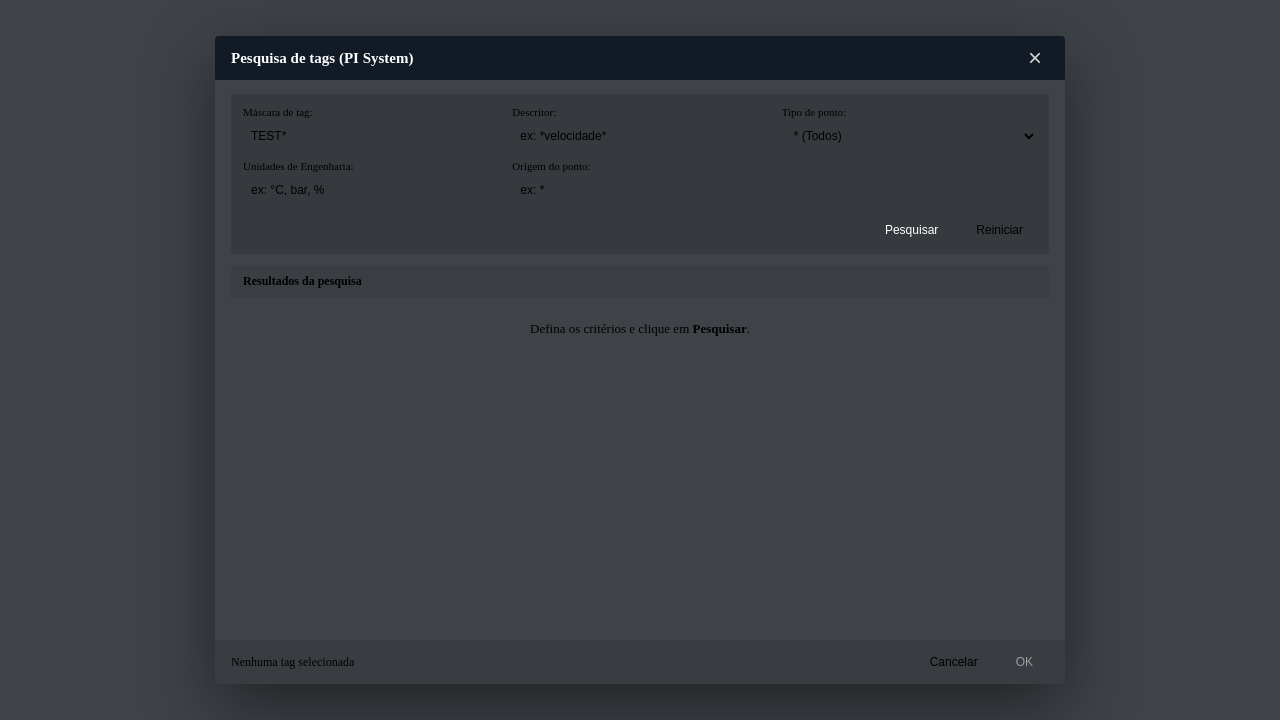
PiPointSearchDialog › permite reiniciar filtros
In the field with test id "dialog-descriptor": (640, 136) [512,122,768,150], type "Motor"
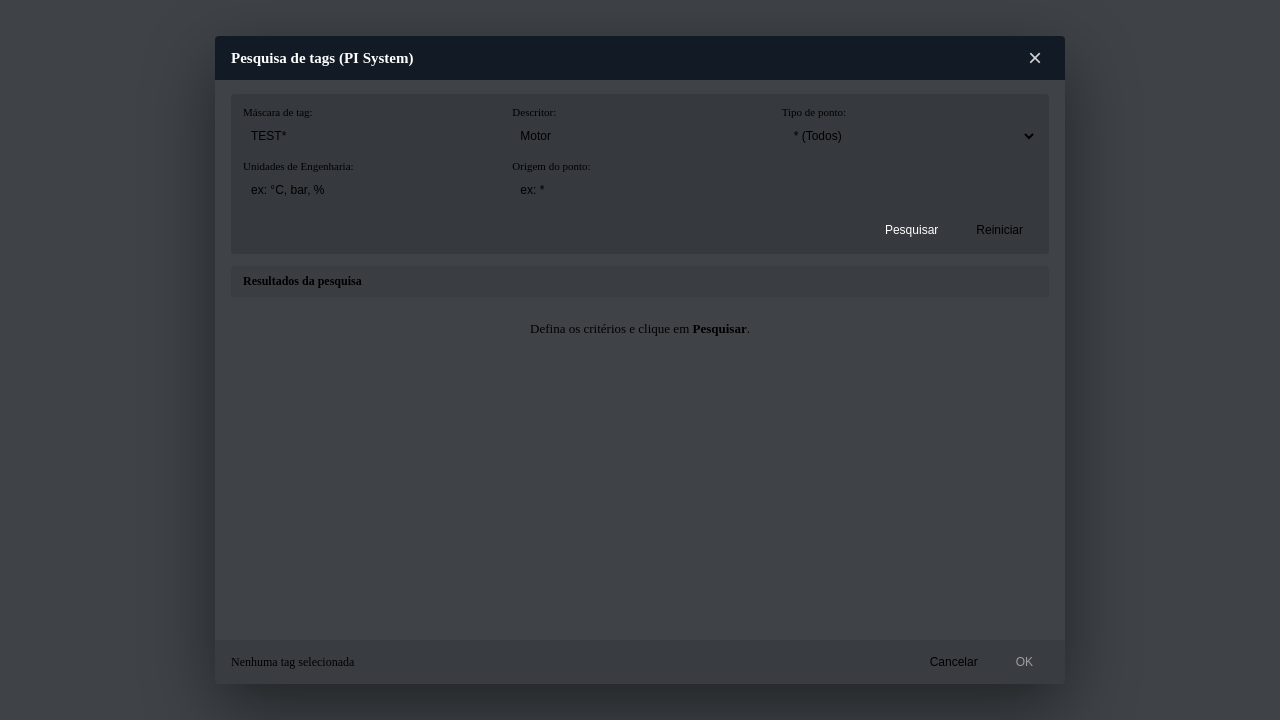
Click the button with test id "dialog-search-reset": (1000, 230) [962,218,1037,242]
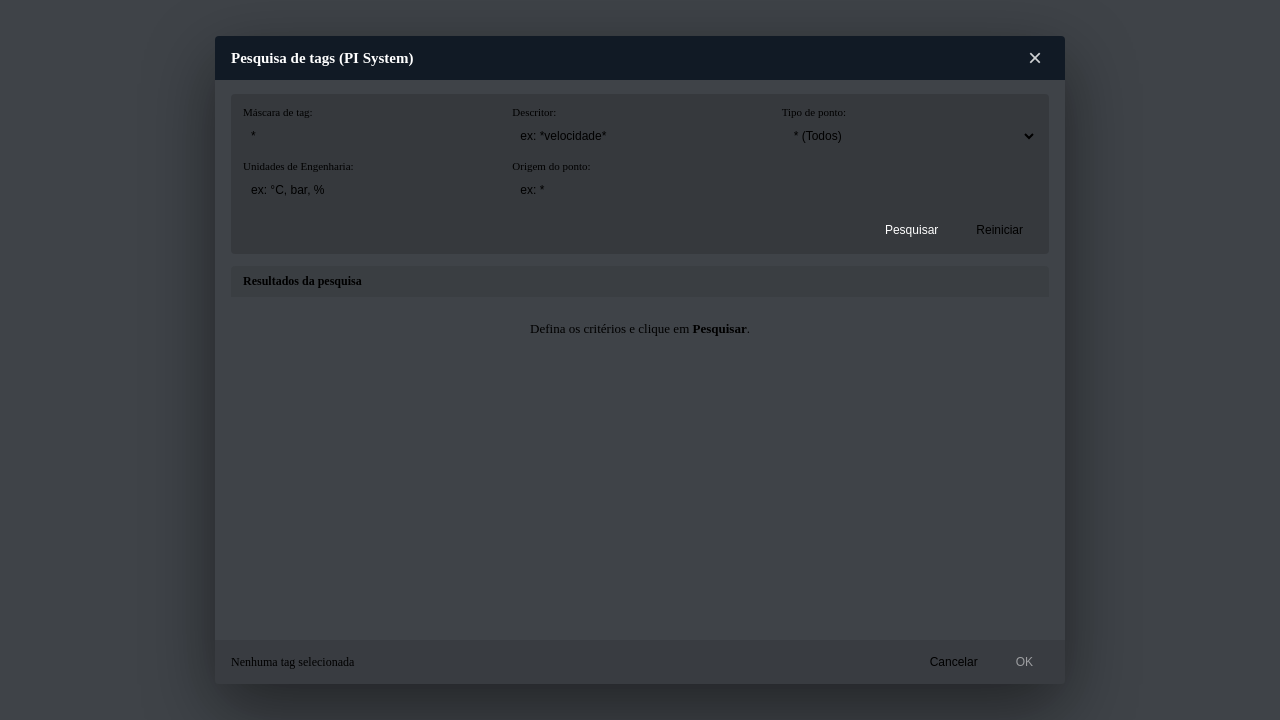
Now the field with test id "dialog-tag-mask" holds "*", box [243,122,498,150]
Now the field with test id "dialog-descriptor" is empty, box [512,122,768,150]
